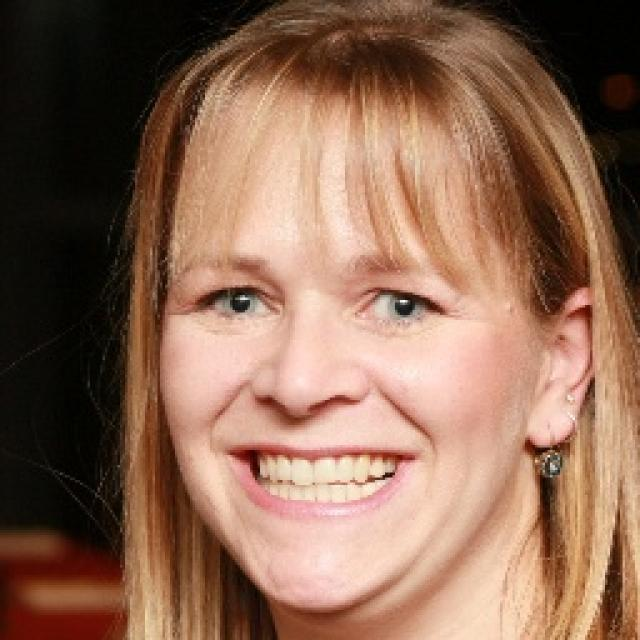earlobe: (526, 286, 618, 450)
